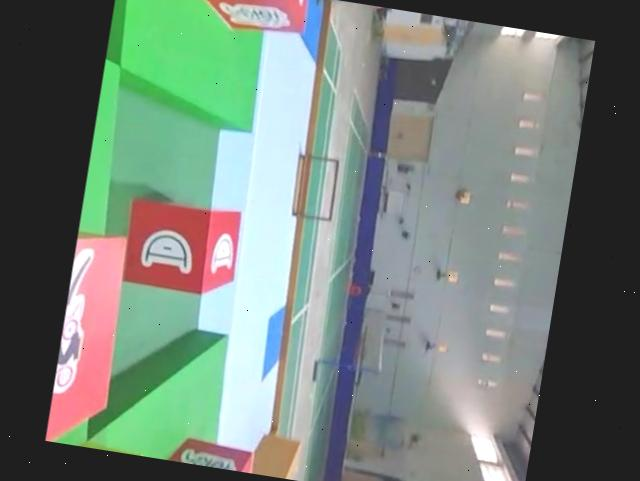R1: (45, 228, 135, 449)
R2 Fake: (150, 433, 258, 474), (187, 0, 308, 36)
R2 Real: (119, 194, 244, 301)
